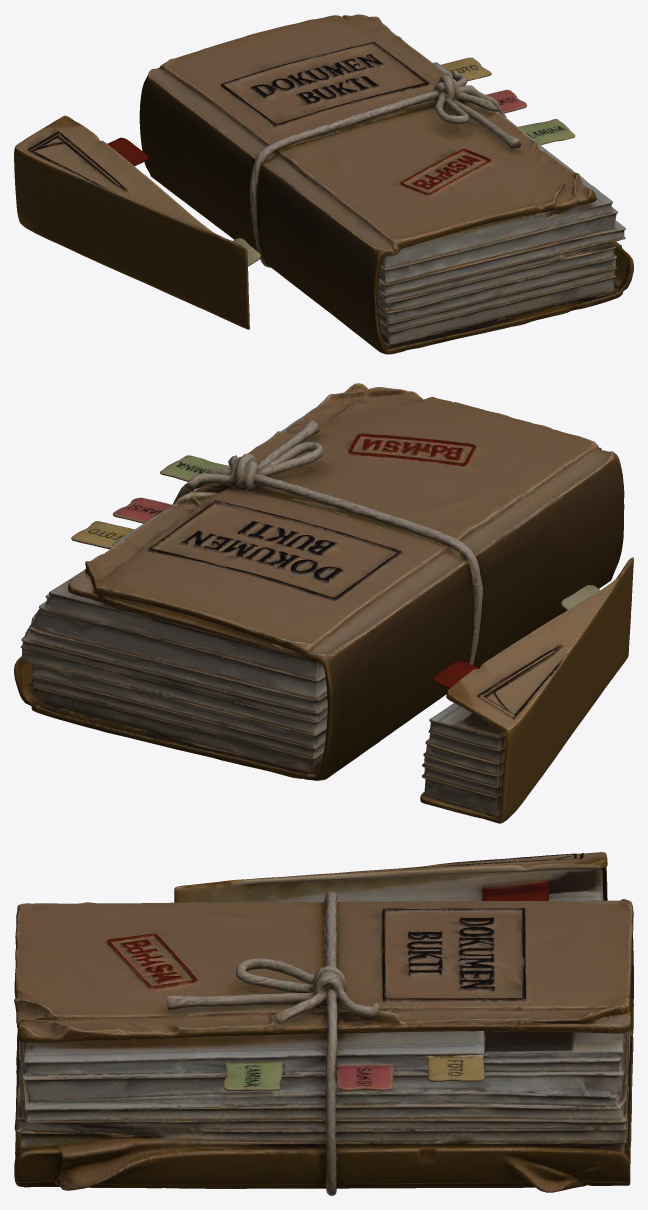
File: tripo_convert_226a4703-295b-44a6-a641-ba726d5e4956.fbx
3 views of the same model, one above another, from view 1: azimuth 30°, elevation 25°; view 2: azimuth 150°, elevation 25°; view 3: azimuth 270°, elevation 25° (orthographic). The views are drawn at different scales.
Parts seen in each view (by area): view 1: tripo_node_226a4703; view 2: tripo_node_226a4703; view 3: tripo_node_226a4703.
Boxes of the visible parts, x1=… form: tripo_node_226a4703: x1=14, y1=14, x2=633, y2=354; tripo_node_226a4703: x1=14, y1=383, x2=633, y2=823; tripo_node_226a4703: x1=14, y1=852, x2=633, y2=1195.
Bounding box in the file's own units: 99.82 × 100 × 35.7.
1 material, 1 textured.
